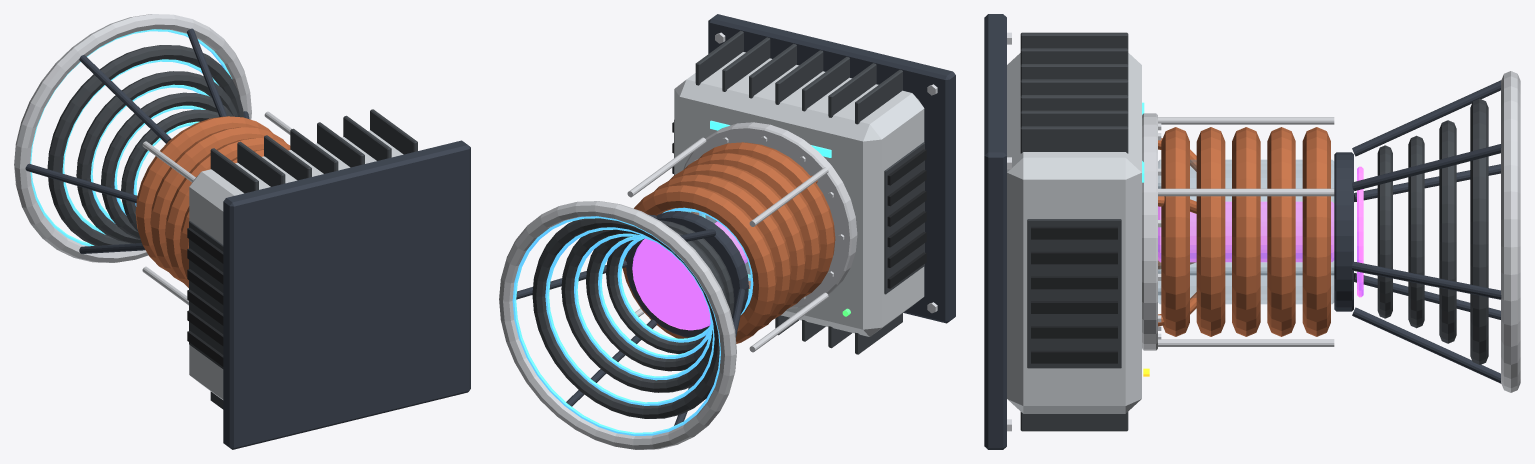
Rendered from plasma_drive.glb.
3 renders of one model, left to right at view 1: azimuth 30°, elevation 25°; view 2: azimuth 150°, elevation 25°; view 3: azimuth 270°, elevation 25°, orthographic. The views are drawn at different scales.
Visible parts, largest first — view 1: plasma_drive; view 2: plasma_drive; view 3: plasma_drive.
Part boxes in pixels (x1,y1,x2,y2): plasma_drive: (14, 14, 470, 449); plasma_drive: (499, 14, 955, 449); plasma_drive: (984, 14, 1520, 449).
Bounding box in the file's own units: 1 × 1 × 1.6.
